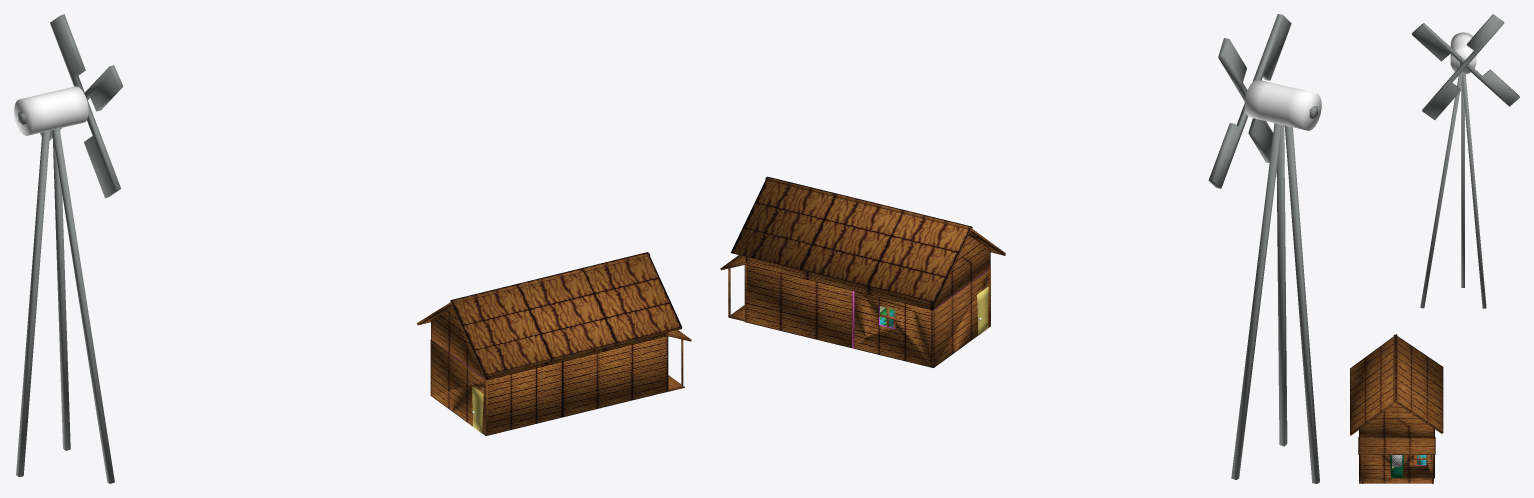
The model's file is casa.obj.
3 renders of one model, left to right at view 1: azimuth 30°, elevation 25°; view 2: azimuth 150°, elevation 25°; view 3: azimuth 270°, elevation 25°, orthographic. The views are drawn at different scales.
Visible parts, largest first — view 1: Box043, p5, p6, Box050, Box051, p4, Cylinder014, Box054, Box049, Box037, Box055, Box042; view 2: Box042, p1, p2, Box037, Box051, Box049, p4, Cylinder014, Box050, Box055, Box054, Box043; view 3: Box042, Box043, Box037, Box054, Box055, Box038, p3, Box049, Box050, Box051, Cylinder014, Box041.
Part boxes in pixels (box(x1,y1,x2,y2)): Box043: box(450, 252, 682, 377); p5: box(562, 336, 668, 417); p6: box(484, 361, 562, 435); Box050: box(52, 130, 114, 483); Box051: box(16, 130, 50, 476); p4: box(430, 339, 487, 435); Cylinder014: box(14, 86, 88, 135); Box054: box(50, 14, 120, 198); Box049: box(52, 128, 70, 450); Box037: box(431, 307, 667, 379); Box055: box(40, 65, 123, 140); Box042: box(417, 253, 650, 325); Box042: box(731, 176, 972, 302); p1: box(746, 265, 852, 347); p2: box(854, 291, 932, 367); Box037: box(745, 235, 990, 309); Box051: box(1284, 125, 1319, 483); Box049: box(1231, 123, 1281, 479); p4: box(932, 269, 989, 367); Cylinder014: box(1244, 79, 1321, 130); Box050: box(1276, 125, 1287, 446); Box055: box(1208, 14, 1291, 188); Box054: box(1218, 38, 1273, 162); Box043: box(765, 177, 1005, 255); Box042: box(1393, 334, 1443, 433); Box043: box(1350, 334, 1397, 435); Box037: box(1359, 403, 1434, 438); Box054: box(1422, 14, 1504, 119); Box055: box(1411, 23, 1519, 106); Box038: box(1358, 437, 1435, 454); p3: box(1359, 455, 1434, 478); Box049: box(1461, 74, 1486, 308); Box050: box(1420, 74, 1462, 308); Box051: box(1461, 80, 1464, 287); Cylinder014: box(1450, 32, 1476, 74); Box041: box(1359, 477, 1433, 483).
Bounding box in the file's own units: 1441 × 990 × 518.
17 materials, 14 textured.
